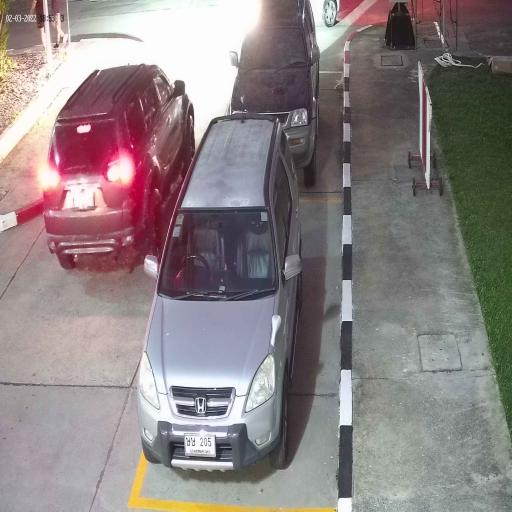car: (138, 112, 304, 476), (42, 61, 196, 271), (224, 0, 322, 191)
